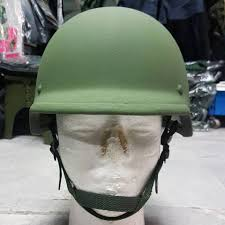helmet: (28, 7, 194, 137)
